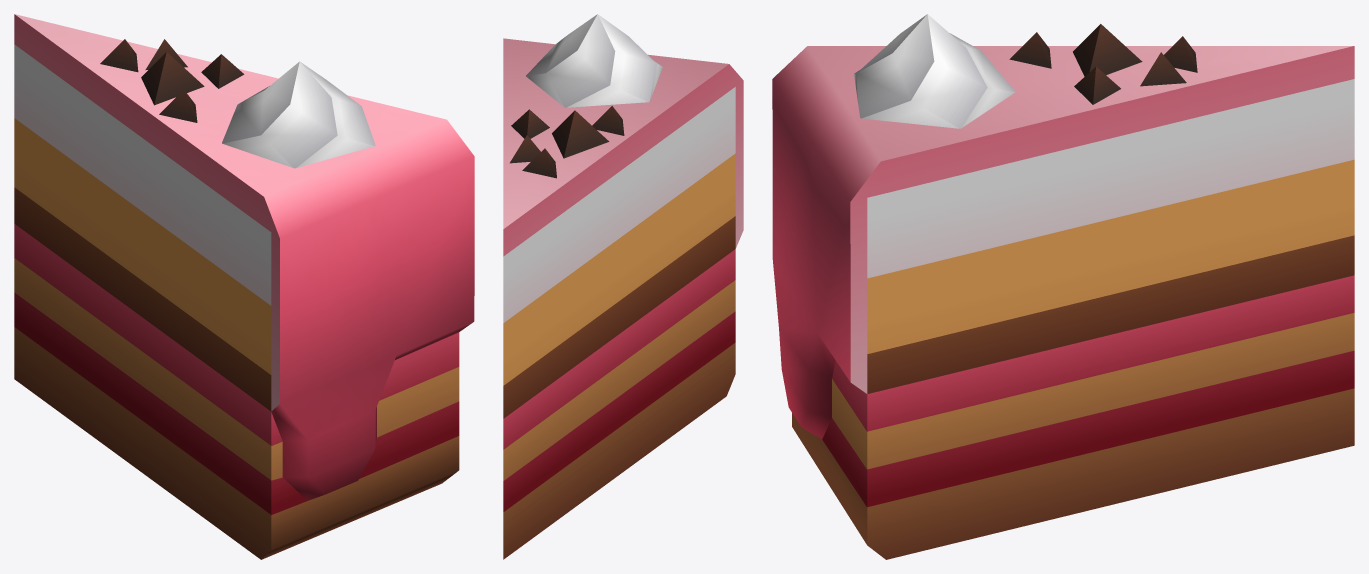
Rendered from m_Cake03_Slice03.fbx.
3 views of the same model, side by side, from view 1: azimuth 30°, elevation 25°; view 2: azimuth 150°, elevation 25°; view 3: azimuth 270°, elevation 25° (orthographic). The views are drawn at different scales.
Visible parts, largest first — view 1: m_Cake03_Slice03; view 2: m_Cake03_Slice03; view 3: m_Cake03_Slice03.
Part boxes in pixels (left/top/right/bottom): m_Cake03_Slice03: left=14, top=14, right=474, bottom=559; m_Cake03_Slice03: left=503, top=14, right=743, bottom=559; m_Cake03_Slice03: left=772, top=14, right=1354, bottom=559.
Bounding box in the file's own units: 7.24 × 13.18 × 14.48.
